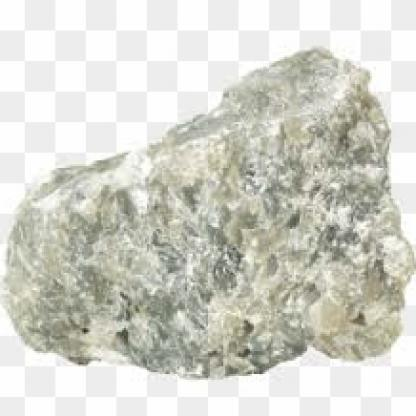Metamorphic_Marble: (0, 48, 414, 376)
